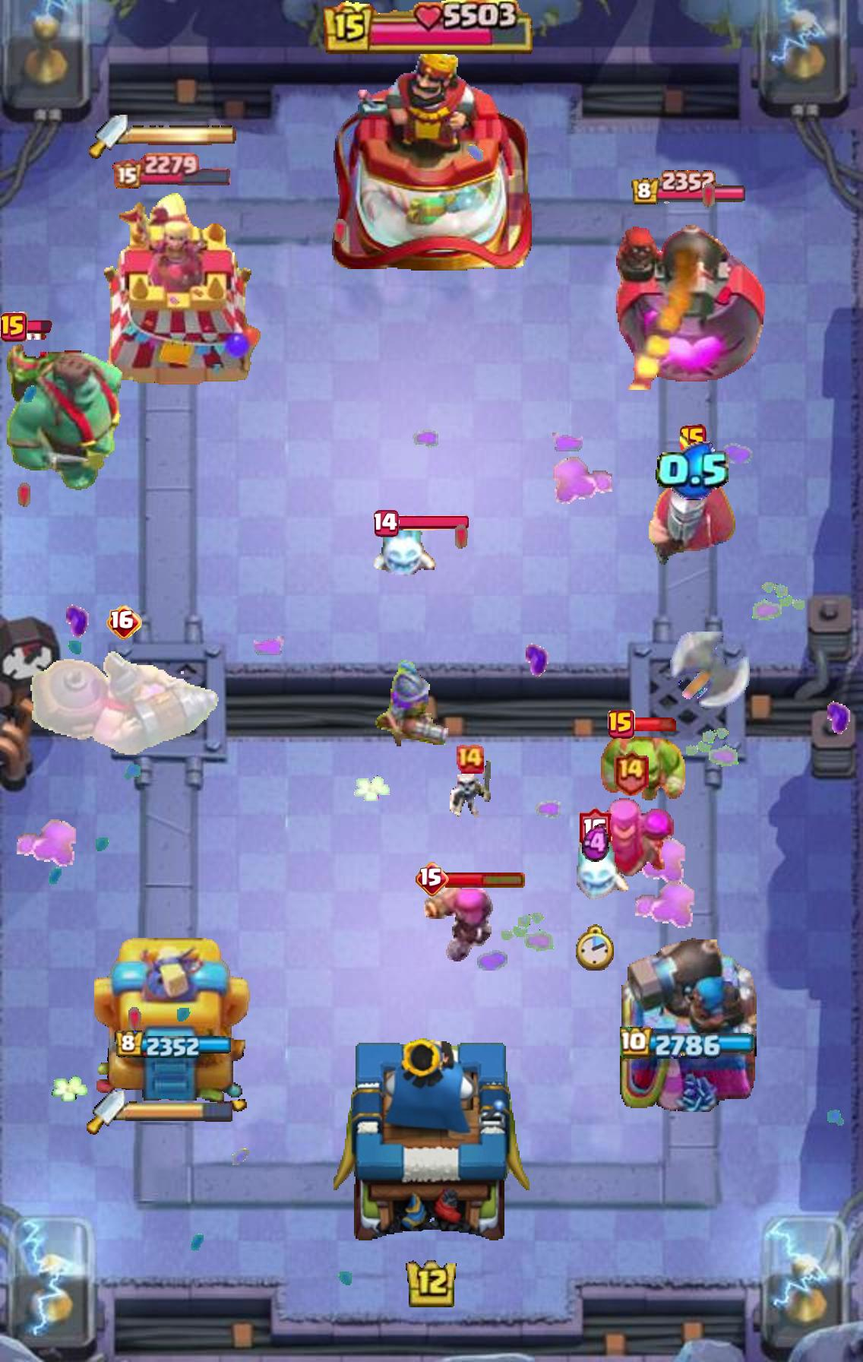bar: (445, 870, 526, 888), (396, 515, 469, 531), (631, 717, 680, 732), (24, 320, 52, 334)
bar-level: (612, 749, 650, 796), (579, 807, 612, 853), (107, 605, 142, 640), (416, 862, 450, 897), (454, 744, 485, 774), (0, 312, 27, 342), (680, 424, 707, 454), (608, 710, 635, 739), (373, 509, 399, 537)
